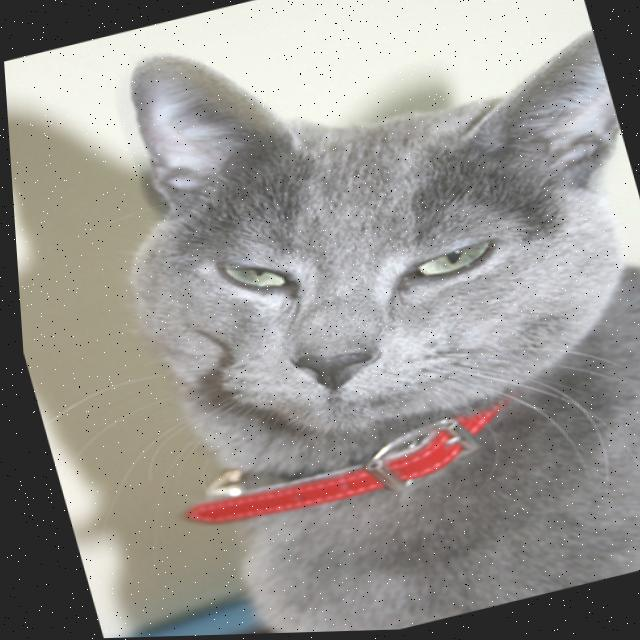Russian Blue: (56, 0, 640, 639)
